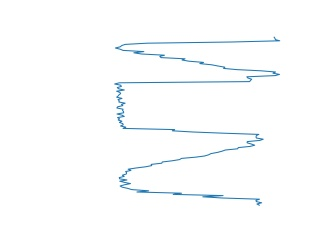distributaryChannelFill: (111, 72, 264, 144)
mouthBar: (114, 35, 285, 77)
underwaterDistributaryChannel: (114, 140, 265, 209)
